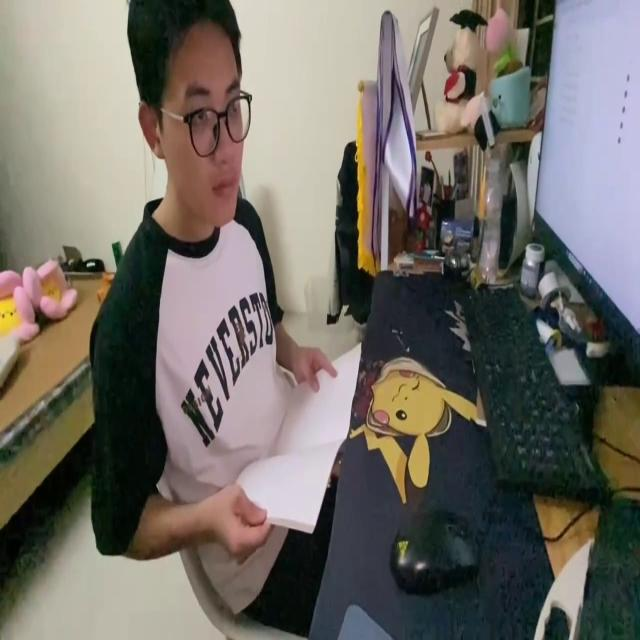book: (229, 342, 362, 540)
laptop: (527, 0, 640, 386)
student: (83, 0, 338, 629)
